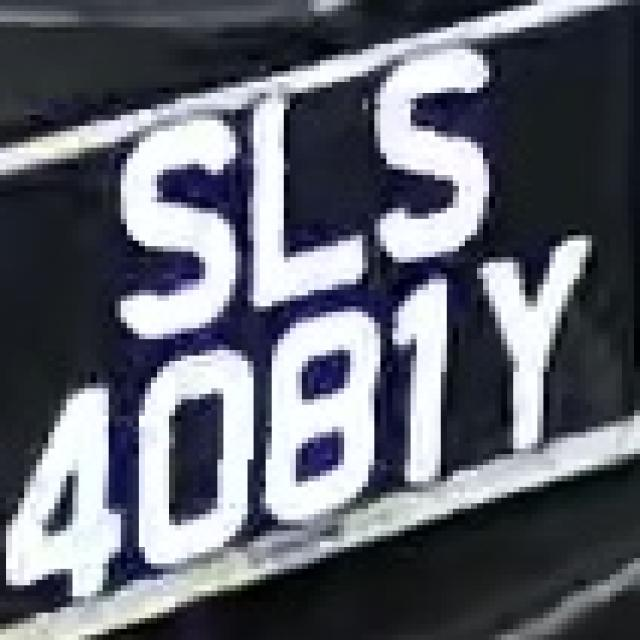0: (138, 328, 260, 564)
1: (405, 262, 477, 508)
4: (12, 356, 133, 596)
8: (260, 290, 392, 536)
L: (236, 82, 386, 312)
S: (102, 99, 248, 334), (356, 38, 495, 268)
Y: (459, 219, 592, 465)
